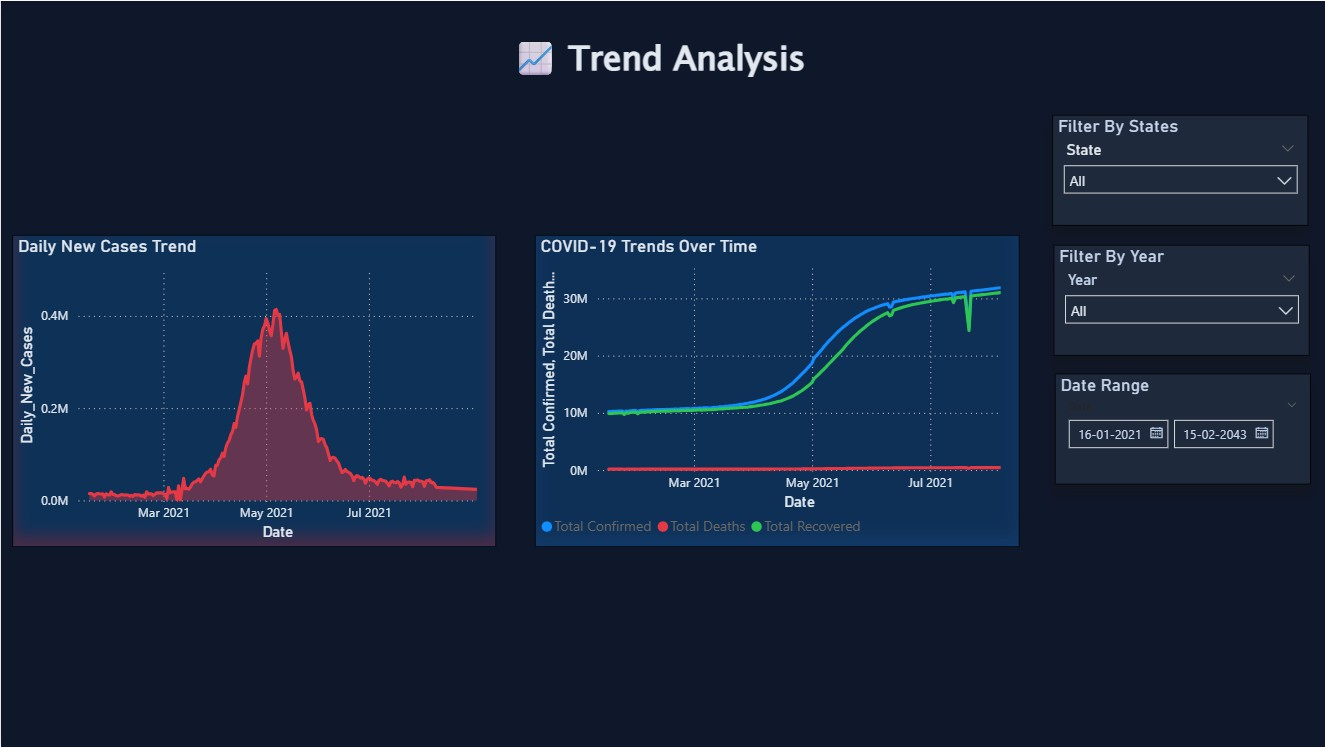

Layout of this report page (visuals, bound fields, positions):
{"tool":"powerbi","page":{"name":"Trend Analysis","canvas":[1280,720],"ordinal":4},"visuals":[{"type":"textbox","box":[488.6,26.5,301.6,62.7],"z":0},{"type":"lineChart","title":"COVID-19 Trends Over Time","fields":{"Category":["DateTable.Date"],"Y":["RawData.Total Confirmed","RawData.Total Deaths","RawData.Total Recovered"]},"box":[515.2,225.6,468.1,301.6],"z":1000},{"type":"lineChart","title":"Daily New Cases Trend","fields":{"Y":["RawData.Daily_New_Cases"],"Category":["DateTable.Date"]},"box":[10.9,225.6,466.9,301.6],"z":2000},{"type":"slicer","title":"Filter By States","fields":{"Values":["RawData.State"]},"box":[1014.6,109.8,247.3,107.4],"z":3000},{"type":"slicer","title":"Filter By Year","fields":{"Values":["DateTable.Year"]},"box":[1015.8,235.3,247.3,107.4],"z":4000},{"type":"slicer","title":"Date Range","fields":{"Values":["DateTable.Date"]},"box":[1017,359.5,247.3,107.4],"z":5000}]}

Visuals, with their boxes in screenshot pixels (x1, y1, x2, y2), scaled from the page's 1280x720 canvas onto the 1325x747 screenshot:
textbox: select_region(506, 27, 818, 93)
"COVID-19 Trends Over Time" lineChart: select_region(533, 234, 1018, 547)
"Daily New Cases Trend" lineChart: select_region(11, 234, 495, 547)
"Filter By States" slicer: select_region(1050, 114, 1306, 225)
"Filter By Year" slicer: select_region(1052, 244, 1308, 356)
"Date Range" slicer: select_region(1053, 373, 1309, 484)
